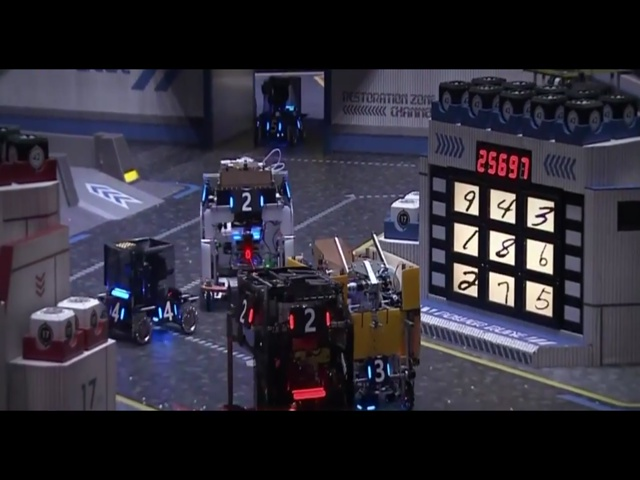plate: (285, 306, 333, 335), (226, 192, 266, 214), (108, 290, 130, 324), (234, 296, 256, 330), (365, 359, 393, 385), (265, 110, 286, 139), (154, 298, 180, 321)
